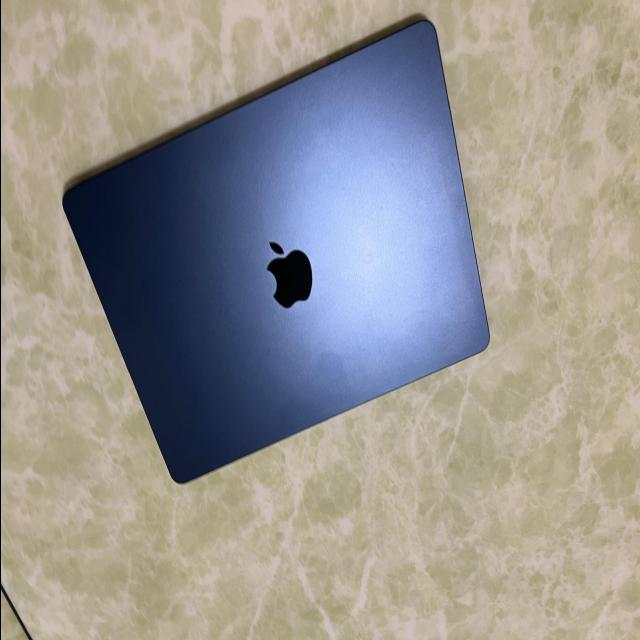laptop: (60, 14, 491, 484)
